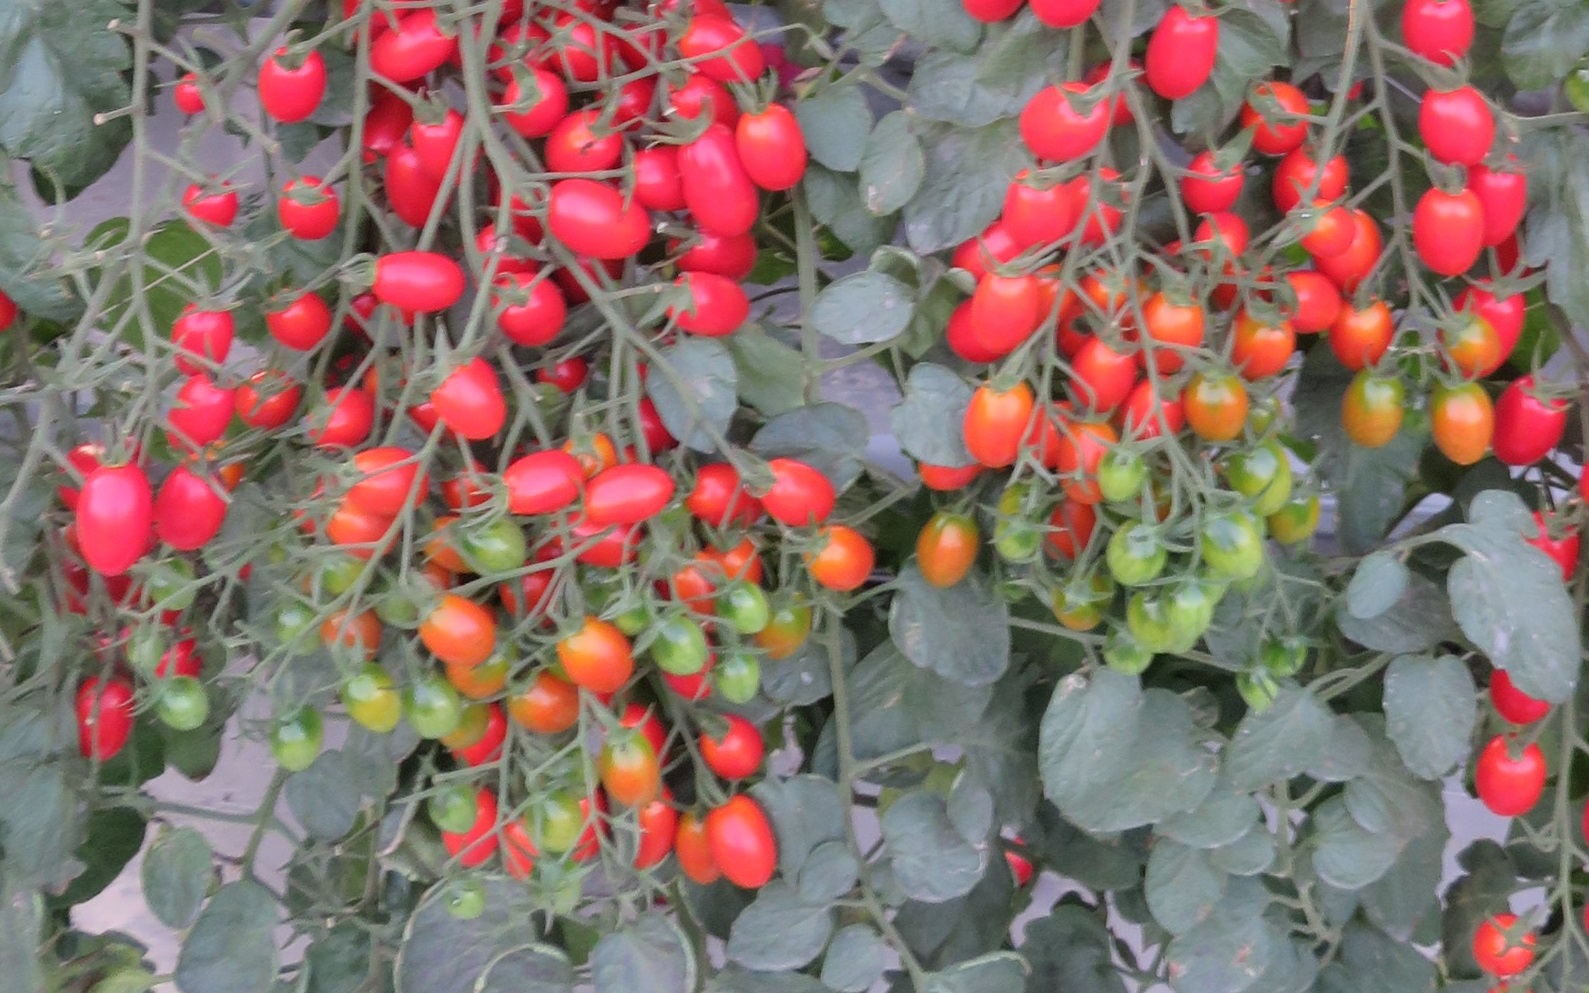green: (1130, 586, 1208, 658), (1206, 505, 1270, 585), (1233, 436, 1292, 518), (332, 673, 400, 736), (647, 612, 708, 680), (268, 710, 326, 774), (1048, 572, 1107, 631), (471, 518, 537, 572), (525, 791, 583, 850), (152, 680, 214, 736), (404, 673, 455, 736), (717, 649, 766, 710), (1094, 448, 1147, 505), (1110, 523, 1157, 587), (272, 607, 326, 660), (1273, 492, 1322, 546), (994, 510, 1039, 561), (428, 791, 476, 834), (726, 585, 768, 631), (318, 555, 363, 591), (443, 885, 484, 921)
orange: (964, 374, 1036, 472), (413, 591, 501, 669), (1428, 375, 1495, 471), (558, 617, 635, 696), (915, 509, 978, 589), (1346, 365, 1403, 454), (1139, 293, 1202, 371), (801, 527, 876, 591), (1183, 374, 1248, 442), (598, 726, 657, 801), (506, 674, 573, 729), (1237, 313, 1290, 381), (1333, 297, 1388, 363), (1449, 313, 1500, 384), (1305, 190, 1356, 260), (676, 812, 707, 884)
red: (74, 453, 152, 583), (967, 255, 1064, 353), (677, 127, 758, 237), (1136, 9, 1233, 100), (547, 178, 651, 262), (1017, 84, 1117, 164), (366, 9, 464, 82), (1413, 87, 1497, 169), (704, 799, 780, 889), (1497, 379, 1575, 467), (579, 460, 676, 529), (1414, 184, 1485, 278), (366, 247, 466, 313), (749, 456, 836, 531), (736, 103, 807, 192), (1477, 731, 1547, 820), (157, 462, 227, 551), (496, 442, 583, 513), (1392, 2, 1476, 71), (678, 14, 762, 82), (1006, 169, 1080, 246), (1068, 333, 1141, 410), (683, 462, 763, 529), (76, 675, 135, 764), (667, 271, 748, 336), (1246, 81, 1313, 158), (1476, 162, 1538, 246), (410, 116, 480, 188), (1470, 909, 1543, 979), (492, 71, 569, 137), (170, 374, 239, 447), (259, 49, 326, 124), (386, 140, 438, 230), (547, 110, 623, 170), (276, 175, 341, 241), (1525, 509, 1582, 585), (1274, 146, 1346, 206), (435, 368, 496, 437), (704, 721, 770, 783), (308, 389, 374, 448), (1488, 666, 1554, 725), (176, 303, 233, 368), (660, 76, 736, 124), (500, 278, 559, 339), (264, 292, 328, 348), (1186, 149, 1242, 209), (188, 174, 239, 230), (238, 386, 295, 432), (1198, 210, 1248, 263), (1028, 1, 1102, 29), (958, 1, 1025, 22), (170, 70, 199, 118)
